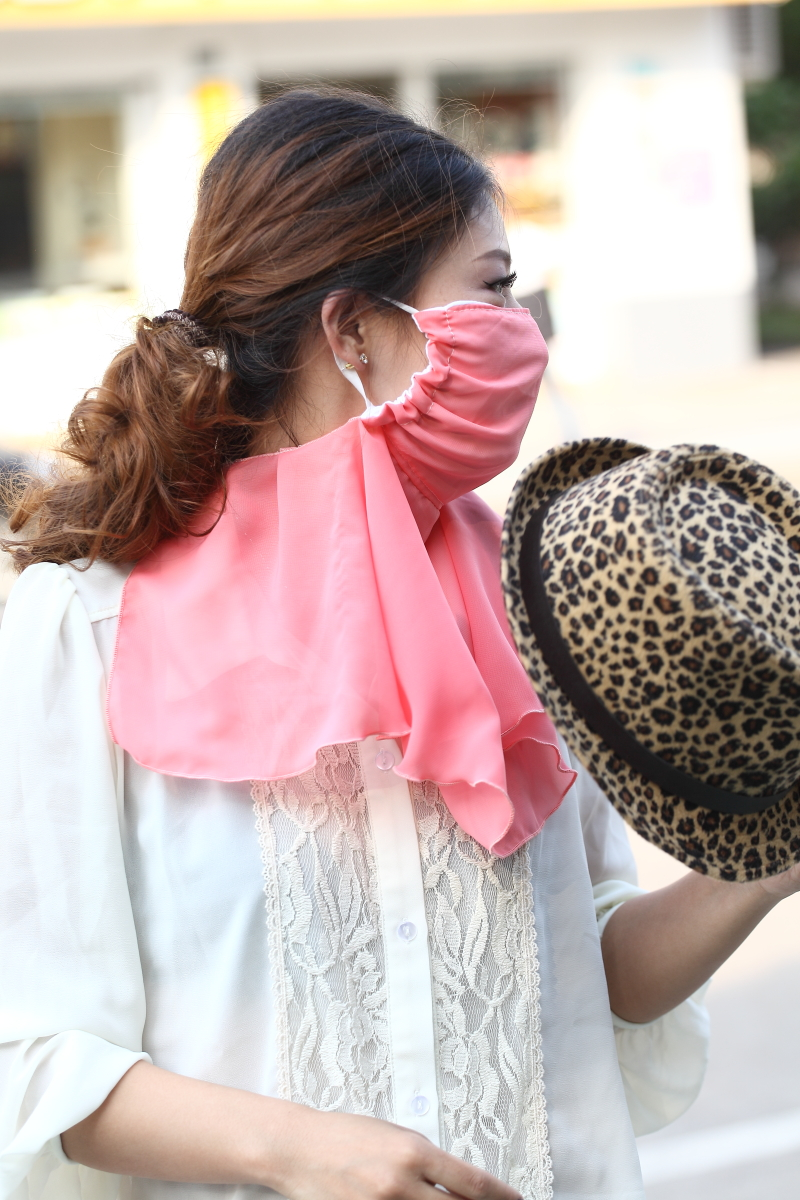face_mask: (382, 185, 545, 505)
